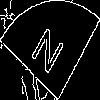N: (24, 25, 66, 85)
